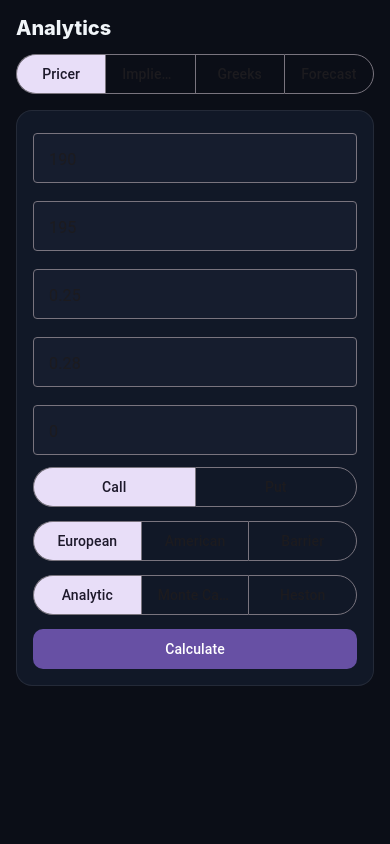
AnalyticsScreen tabs › switches to Implied Vol
What coordinates should you click on to do the following:
click the button "Implied Vol"
I would click on:
 (150, 74)
Its box is [106,55,195,93].
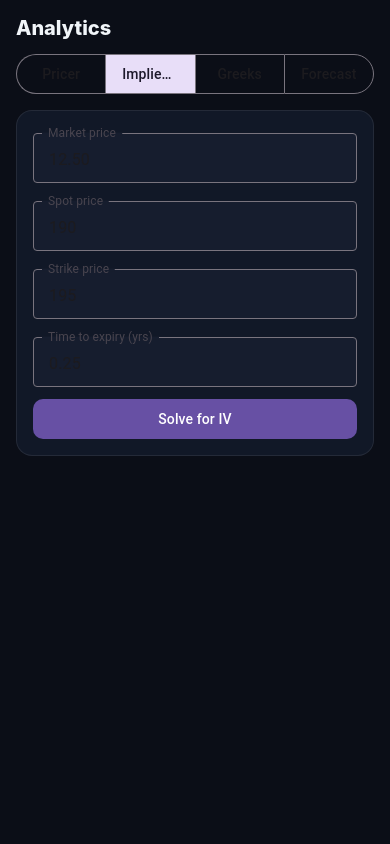
Expected: the text "Solve for IV" is shown, [158,409,232,429]
